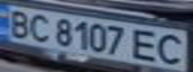0: (87, 20, 109, 54)
1: (69, 19, 90, 51)
7: (106, 24, 130, 56)
8: (51, 16, 75, 47)
B: (3, 7, 33, 38)
C: (154, 32, 190, 66), (24, 11, 54, 43)
E: (130, 27, 163, 63)
